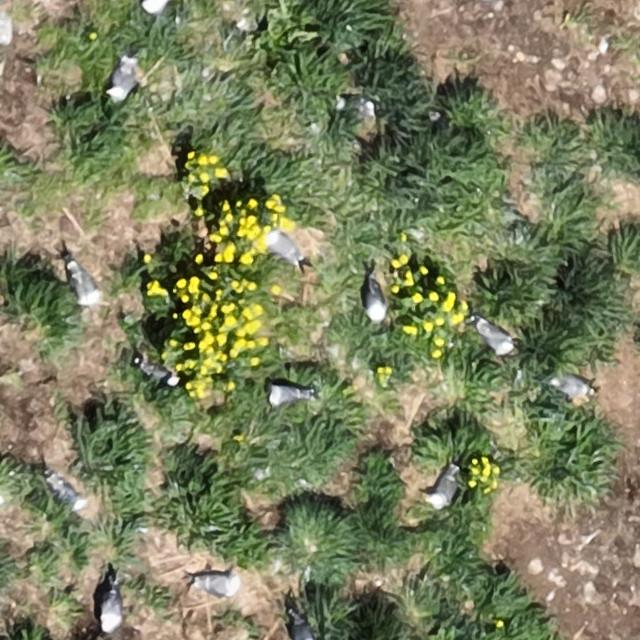umineko: (477, 322, 512, 353), (268, 232, 302, 262), (73, 266, 100, 303), (431, 470, 458, 506), (200, 574, 243, 596), (111, 62, 135, 99), (100, 591, 121, 632), (365, 282, 386, 322), (139, 362, 175, 383), (554, 376, 591, 396), (268, 386, 301, 406), (293, 619, 315, 640)
